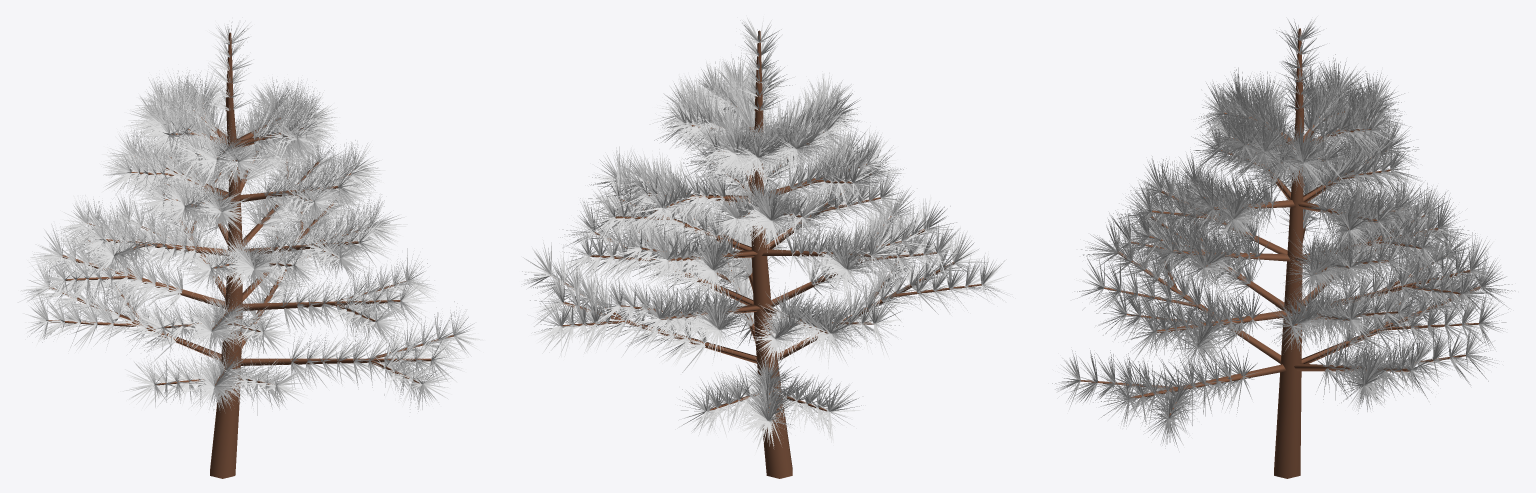
File: ENV_young_pine.fbx
The picture shows the model from 3 angles, left to right: view 1: azimuth 30°, elevation 25°; view 2: azimuth 150°, elevation 25°; view 3: azimuth 270°, elevation 25°; orthographic projection. The views are drawn at different scales.
Visible parts, largest first — view 1: X_young_pine; view 2: X_young_pine; view 3: X_young_pine.
Part boxes in pixels (<box>): X_young_pine: <box>17,21,483,478</box>; X_young_pine: <box>521,15,1010,478</box>; X_young_pine: <box>1052,16,1515,478</box>.
Bounding box in the file's own units: 1.8 × 2 × 1.86.
